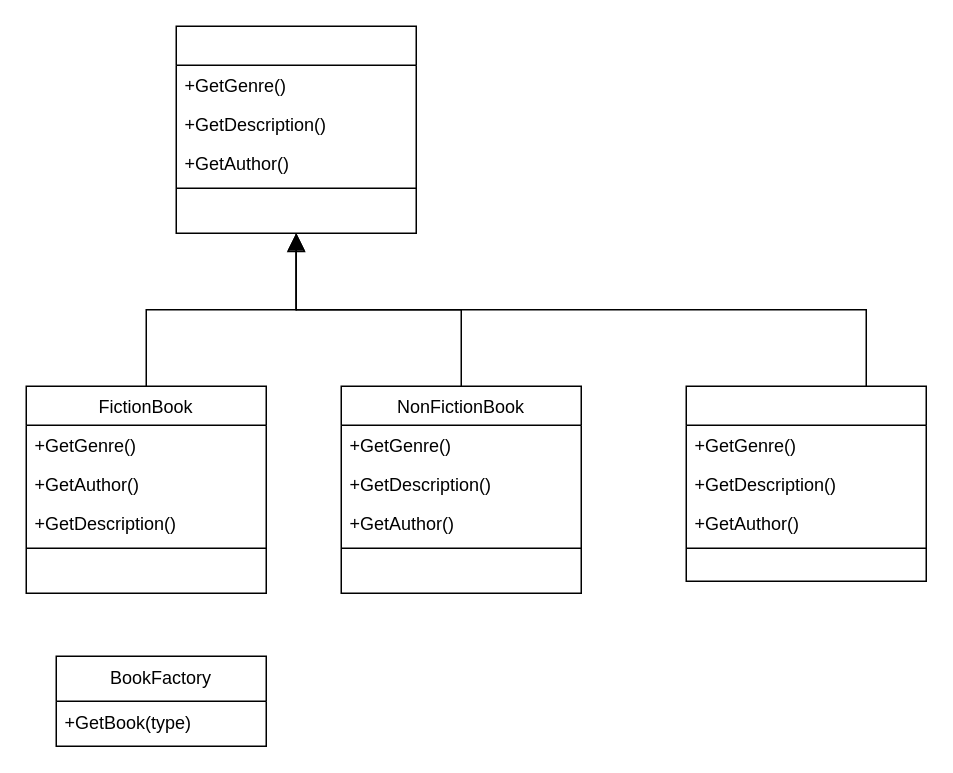
This 953x773 diagram has some shape labels left out. The shapes that lost their labels are listed below. From the top down, each one's box as (x1, y1, x2, y2) in pixels, then its label:
(175, 25, 416, 233): IBook
(685, 385, 926, 581): ReferenceBook
